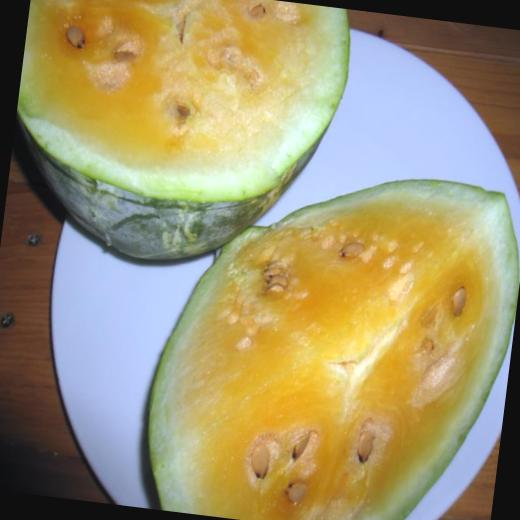Cherry: (136, 147, 520, 520), (0, 0, 355, 279)
